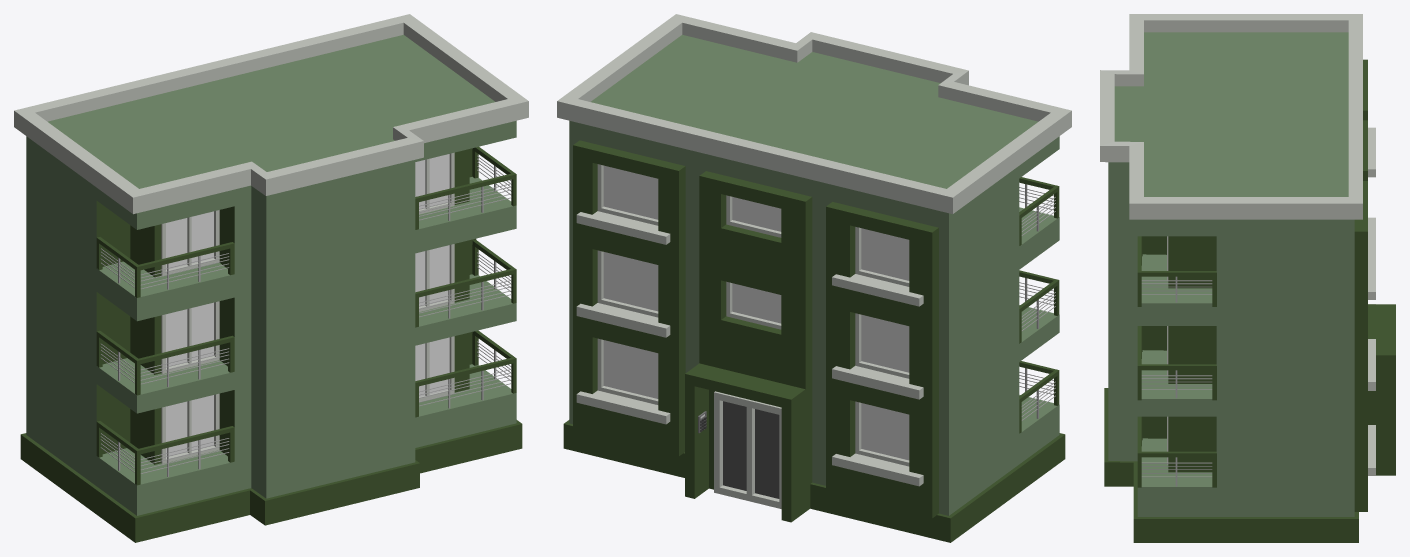
File: Building C Green.fbx
3 views of the same model, side by side, from view 1: azimuth 30°, elevation 25°; view 2: azimuth 150°, elevation 25°; view 3: azimuth 270°, elevation 25° (orthographic).
Visible parts, largest first — view 1: Building C Green.001; view 2: Building C Green.001; view 3: Building C Green.001.
Boxes of the visible parts, box(x1,y1,x2,y2) form: Building C Green.001: box(14, 14, 528, 542); Building C Green.001: box(557, 14, 1071, 542); Building C Green.001: box(1100, 14, 1395, 542).
Bounding box in the file's own units: 1257 × 829 × 1057.
